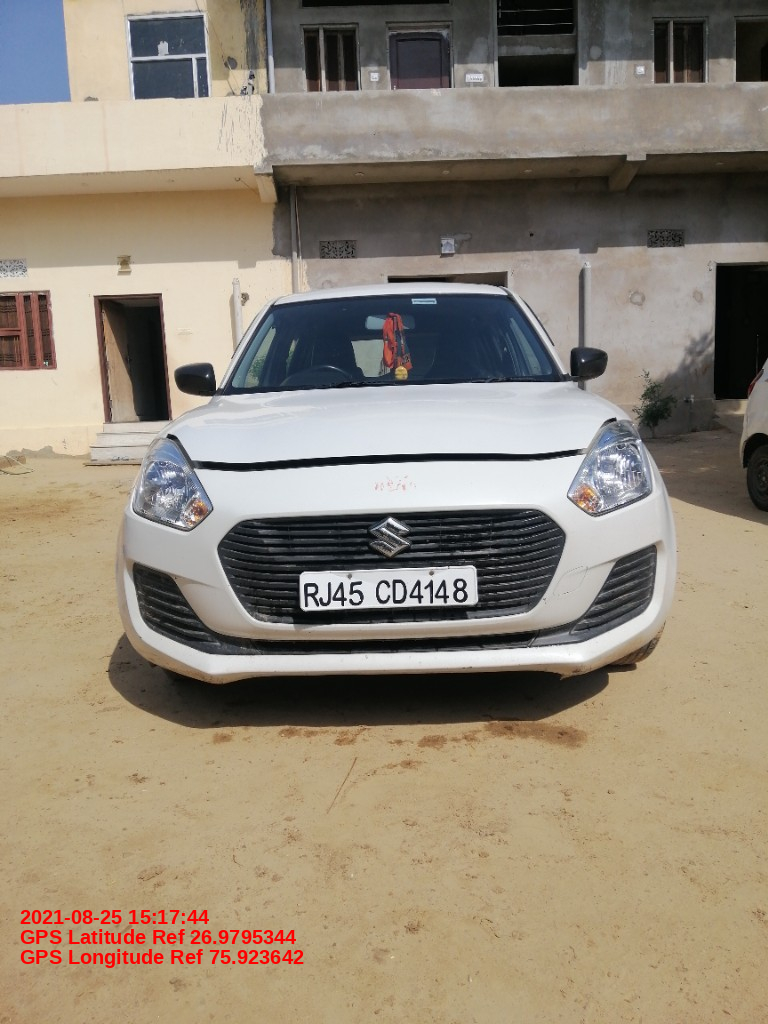Scratched: (568, 662, 595, 676), (456, 661, 481, 672), (170, 571, 188, 582), (135, 632, 150, 644), (542, 592, 552, 607), (303, 628, 319, 636)
